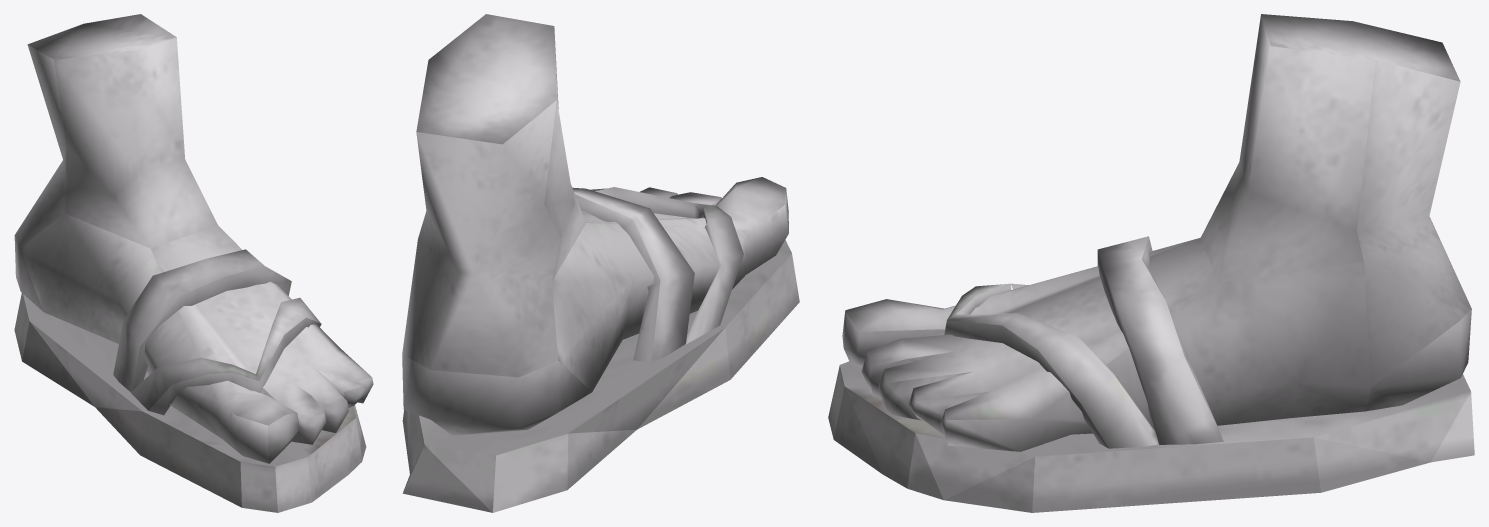
Rendered from ob-bigstatue03.glb.
3 views of the same model, side by side, from view 1: azimuth 30°, elevation 25°; view 2: azimuth 150°, elevation 25°; view 3: azimuth 270°, elevation 25° (orthographic). The views are drawn at different scales.
Parts seen in each view (by area): view 1: Box503; view 2: Box503; view 3: Box503.
Part boxes in pixels (<box>): Box503: <box>14,14,373,512</box>; Box503: <box>402,14,799,512</box>; Box503: <box>828,14,1474,512</box>.
Bounding box in the file's own units: 1.88 × 2.98 × 4.18.
Materials: 1 (1 with a texture image).
